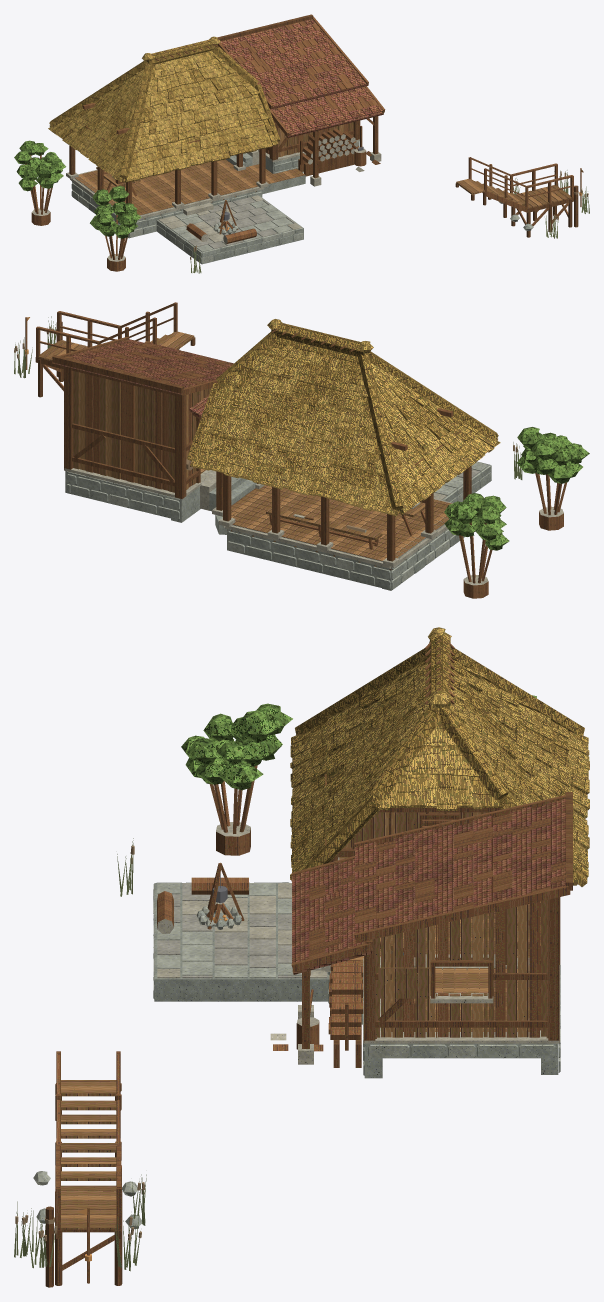
File: survival.glb
3 views of the same model, one above another, from view 1: azimuth 30°, elevation 25°; view 2: azimuth 150°, elevation 25°; view 3: azimuth 270°, elevation 25° (orthographic). The views are drawn at different scales.
Parts seen in each view (by area): view 1: Survival_RoofThatch, Survival_RoofStore, Survival_Coppice, Survival_FloorYard, Survival_FloorCanopy, Survival_JettyFrame, Survival_ServiceLogPile_Stack, Survival_PlinthCanopy, Survival_PlinthYard, Survival_FrameCanopy, Survival_ShellStore, Survival_FloorPorch (+7 smaller); view 2: Survival_RoofThatch, Survival_ShellStore, Survival_Coppice, Survival_FloorCanopy, Survival_PlinthCanopy, Survival_RoofStore, Survival_ShellStoreBase, Survival_FrameCanopy, Survival_JettyFrame, Survival_FurnishingCanopy, Survival_StepLink, Survival_FloorYard (+4 smaller); view 3: Survival_RoofThatch, Survival_RoofStore, Survival_ShellStore, Survival_FloorYard, Survival_Coppice, Survival_ShellStoreBase, Survival_JettyFrame, Survival_ServiceLogPile_Stack, Survival_StepBank, Survival_DeckJetty, Survival_FloorStore, Survival_ServiceFirePit_Ring (+5 smaller).
Part boxes in pixels (x1=…): Survival_RoofThatch: x1=48, y1=36, x2=280, y2=182; Survival_RoofStore: x1=217, y1=14, x2=385, y2=137; Survival_Coppice: x1=14, y1=140, x2=141, y2=271; Survival_FloorYard: x1=156, y1=195, x2=303, y2=264; Survival_FloorCanopy: x1=75, y1=159, x2=258, y2=219; Survival_JettyFrame: x1=455, y1=157, x2=578, y2=237; Survival_ServiceLogPile_Stack: x1=298, y1=126, x2=380, y2=176; Survival_PlinthCanopy: x1=70, y1=169, x2=263, y2=238; Survival_PlinthYard: x1=156, y1=220, x2=303, y2=263; Survival_FrameCanopy: x1=66, y1=124, x2=268, y2=208; Survival_ShellStore: x1=265, y1=120, x2=360, y2=161; Survival_FloorPorch: x1=242, y1=164, x2=305, y2=194; Survival_RoofThatch: x1=187, y1=319, x2=500, y2=516; Survival_ShellStore: x1=64, y1=366, x2=211, y2=498; Survival_Coppice: x1=444, y1=427, x2=589, y2=598; Survival_FloorCanopy: x1=222, y1=485, x2=451, y2=570; Survival_PlinthCanopy: x1=215, y1=498, x2=464, y2=590; Survival_RoofStore: x1=52, y1=337, x2=233, y2=395; Survival_ShellStoreBase: x1=64, y1=468, x2=201, y2=522; Survival_FrameCanopy: x1=212, y1=431, x2=471, y2=567; Survival_JettyFrame: x1=35, y1=302, x2=195, y2=397; Survival_FurnishingCanopy: x1=266, y1=500, x2=425, y2=549; Survival_StepLink: x1=200, y1=473, x2=256, y2=511; Survival_FloorYard: x1=433, y1=462, x2=491, y2=501; Survival_RoofThatch: x1=290, y1=627, x2=589, y2=886; Survival_RoofStore: x1=291, y1=792, x2=572, y2=974; Survival_ShellStore: x1=364, y1=897, x2=560, y2=1042; Survival_FloorYard: x1=154, y1=883, x2=328, y2=1001; Survival_Coppice: x1=181, y1=695, x2=536, y2=855; Survival_ShellStoreBase: x1=363, y1=957, x2=560, y2=1078; Survival_JettyFrame: x1=33, y1=1051, x2=141, y2=1287; Survival_ServiceLogPile_Stack: x1=270, y1=960, x2=363, y2=1067; Survival_StepBank: x1=60, y1=1100, x2=116, y2=1180; Survival_DeckJetty: x1=61, y1=1185, x2=116, y2=1232; Survival_FloorStore: x1=425, y1=960, x2=529, y2=1031; Survival_ServiceFirePit_Ring: x1=196, y1=862, x2=244, y2=929.
Size of the model in its own units: 23.47 by 8.78 by 13.12.
Materials: 30 (23 with a texture image).
